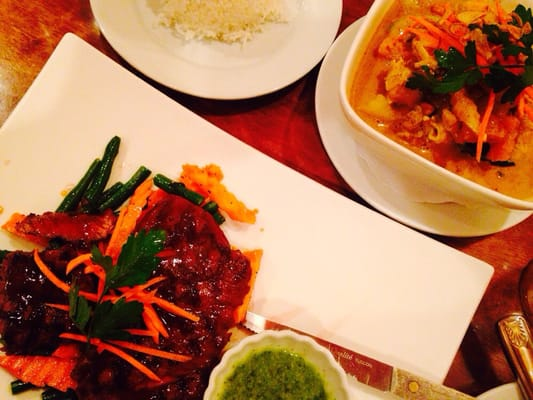curry: (212, 349, 331, 400)
sushi: (338, 0, 533, 225)
